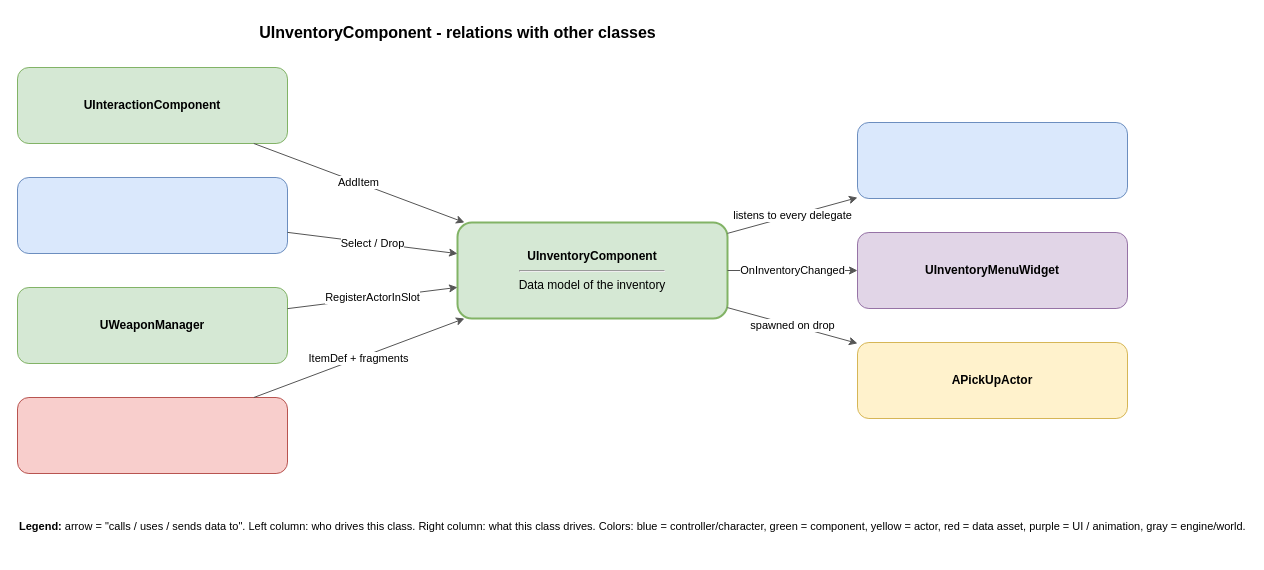
Some shapes in this 1264 by 570 pixel diagram are drawn without their labels. The centre of each missing label's shape, as x and y in pixels:
AFPSCharacter: the point at 992,160
AFPSPlayerController: the point at 152,215
UItemDefinition: the point at 152,435
